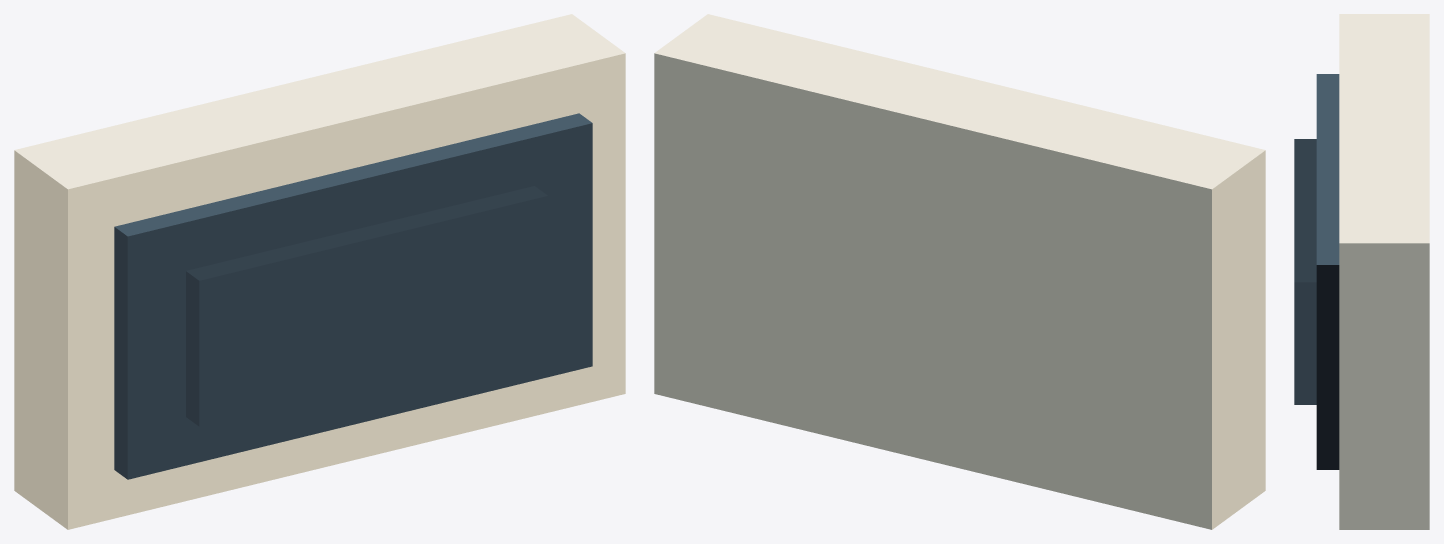
Rendered from Signal_LampOff.gltf.
3 renders of one model, left to right at view 1: azimuth 30°, elevation 25°; view 2: azimuth 150°, elevation 25°; view 3: azimuth 270°, elevation 25°, orthographic. The views are drawn at different scales.
Visible parts, largest first — view 1: Signal_LampOff_baked; view 2: Signal_LampOff_baked; view 3: Signal_LampOff_baked.
Boxes of the visible parts, left/top/right/bottom form: Signal_LampOff_baked: left=14, top=14, right=625, bottom=529; Signal_LampOff_baked: left=654, top=14, right=1265, bottom=529; Signal_LampOff_baked: left=1294, top=14, right=1429, bottom=529.
Bounding box in the file's own units: 0.48 × 0.28 × 0.12.
